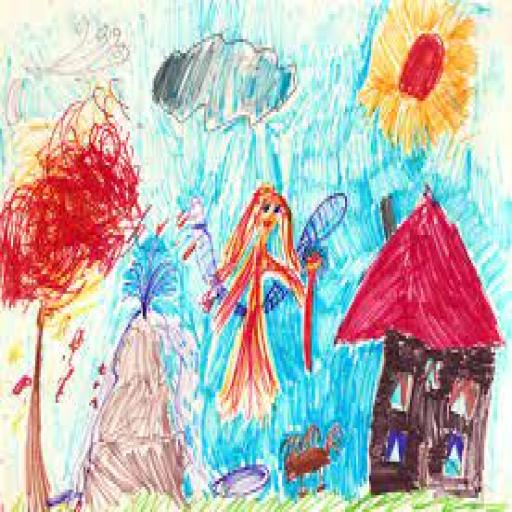person: (181, 168, 346, 414)
